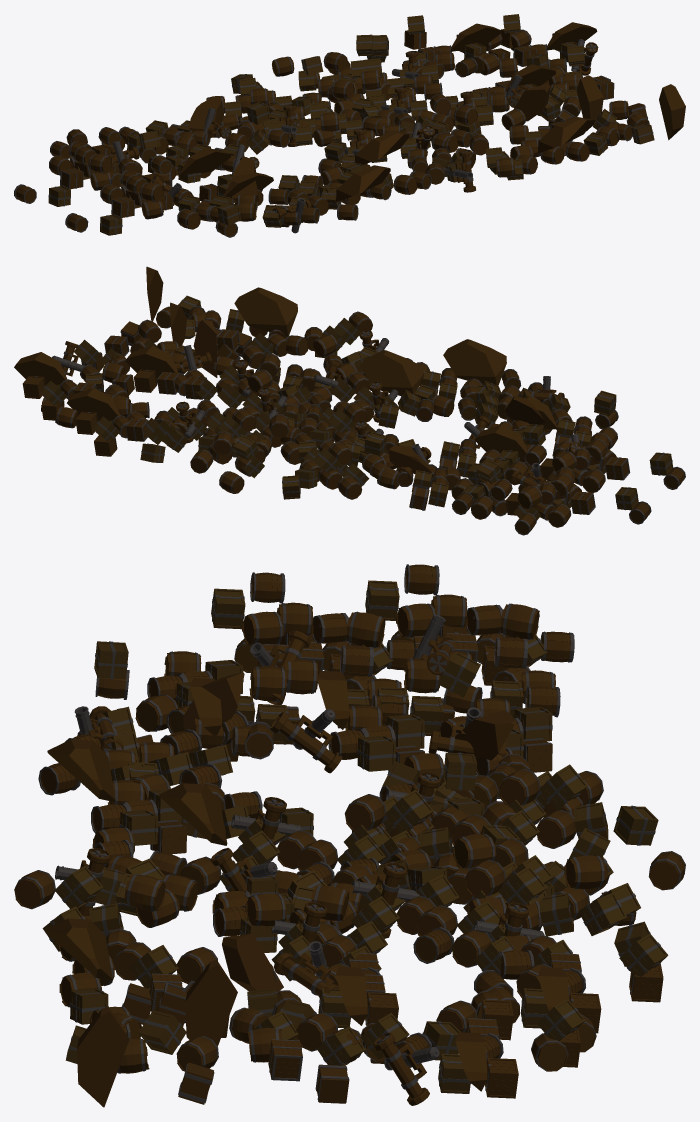
Rendered from SwimLevelBarrels.glb.
The picture shows the model from 3 angles, top to bottom: view 1: azimuth 30°, elevation 25°; view 2: azimuth 150°, elevation 25°; view 3: azimuth 270°, elevation 25°; orthographic projection. The views are drawn at different scales.
Visible parts, largest first — view 1: Wooden Crate 3.132; view 2: Wooden Crate 3.132; view 3: Wooden Crate 3.132.
Boxes of the visible parts, x1,y1,x2,y2 form: Wooden Crate 3.132: [14, 14, 685, 237]; Wooden Crate 3.132: [14, 266, 685, 535]; Wooden Crate 3.132: [14, 564, 685, 1107].
Bounding box in the file's own units: 21.74 × 1.91 × 11.7.
